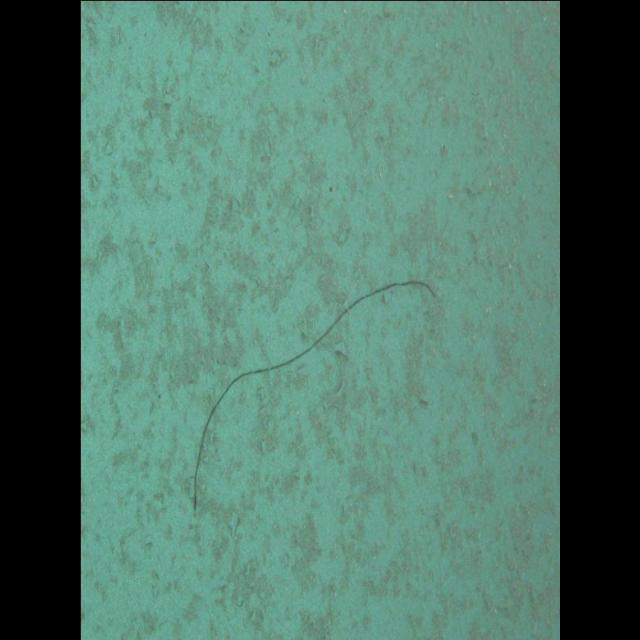Fibre: (191, 278, 437, 516)
